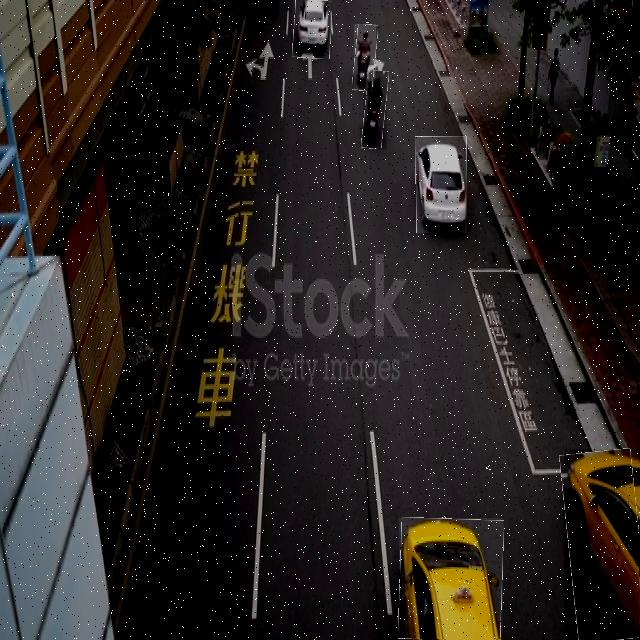Car: (564, 449, 640, 640), (399, 518, 503, 640), (416, 136, 467, 233), (293, 0, 331, 58)
Motorcycle: (363, 71, 387, 149), (354, 24, 376, 91)
